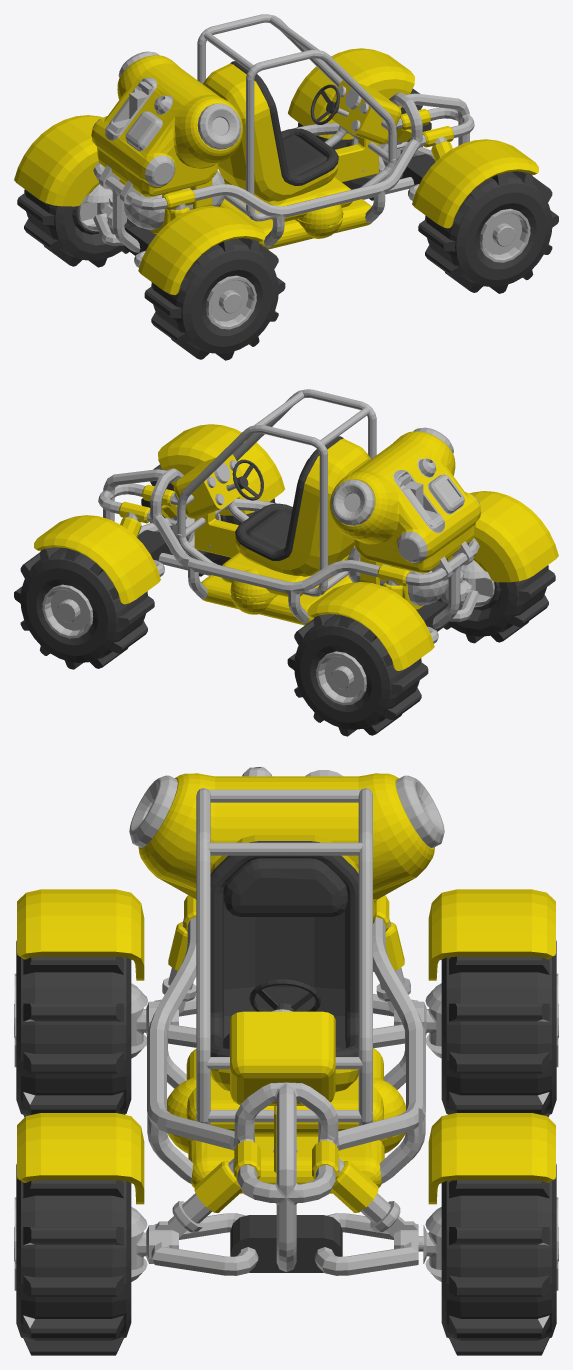
The model's file is łazik z astroneers.fbx.
3 renders of one model, top to bottom at view 1: azimuth 30°, elevation 25°; view 2: azimuth 150°, elevation 25°; view 3: azimuth 270°, elevation 25°, orthographic. The views are drawn at different scales.
Visible parts, largest first — view 1: base, seat, WheelRR, WheelFR, FenderRL, FenderRR, FenderFR, WheelRL, FenderFL, WheelFL, steering; view 2: base, seat, WheelRL, WheelFL, FenderRR, FenderRL, FenderFL, WheelRR, FenderFR, WheelFR, steering; view 3: base, seat, WheelFR, WheelFL, WheelRL, WheelRR, FenderRR, FenderRL, FenderFR, FenderFL, steering.
Boxes of the visible parts, x1,y1,x2,y2 form: base: (91, 51, 474, 267); seat: (197, 14, 401, 224); WheelRR: (144, 238, 285, 360); WheelFR: (418, 171, 558, 293); FenderRL: (14, 115, 102, 206); FenderRR: (138, 206, 265, 294); FenderFR: (412, 139, 538, 228); WheelRL: (17, 184, 135, 267); FenderFL: (288, 48, 414, 139); WheelFL: (297, 89, 431, 200); steering: (310, 84, 348, 124); base: (98, 427, 481, 643); seat: (173, 389, 376, 599); WheelRL: (287, 614, 428, 736); WheelFL: (14, 547, 154, 669); FenderRR: (469, 491, 558, 582); FenderRL: (307, 582, 434, 670); FenderFL: (34, 515, 160, 604); WheelRR: (438, 560, 555, 643); FenderFR: (158, 424, 284, 515); WheelFR: (141, 464, 275, 576); steering: (226, 459, 263, 500); base: (129, 766, 444, 1275); seat: (167, 788, 405, 1172); WheelFR: (14, 1164, 149, 1355); WheelFL: (423, 1164, 558, 1355); WheelRL: (423, 940, 558, 1117); WheelRR: (14, 940, 149, 1117); FenderRR: (17, 889, 144, 980); FenderRL: (428, 889, 555, 980); FenderFR: (17, 1113, 144, 1204); FenderFL: (428, 1113, 555, 1204); steering: (249, 979, 320, 1011).
Bounding box in the file's own units: 399 × 232 × 286.
